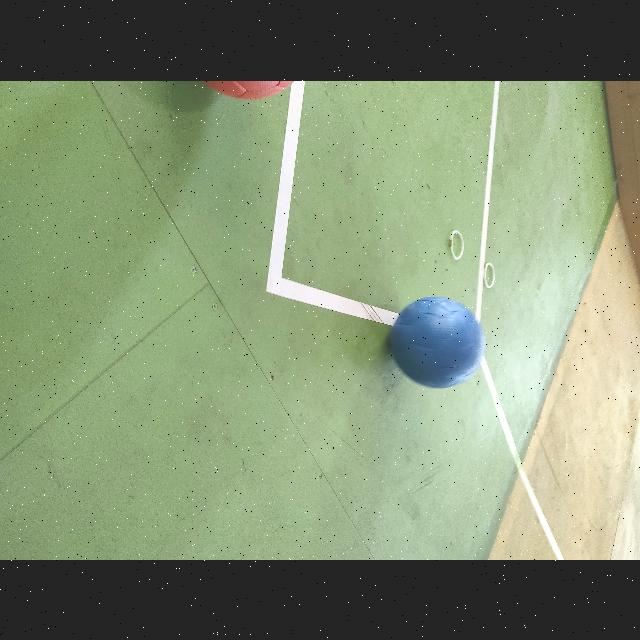B: (391, 296, 484, 388)
R: (186, 81, 310, 99)
